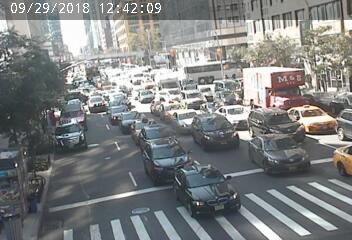car: (242, 67, 302, 109), (178, 166, 238, 205), (253, 140, 307, 174), (201, 113, 237, 151), (145, 142, 189, 172), (258, 107, 297, 138), (180, 62, 249, 78), (51, 127, 91, 151), (300, 111, 331, 131), (59, 107, 89, 125), (214, 80, 241, 98), (102, 103, 131, 119), (143, 127, 176, 140), (176, 113, 201, 128), (182, 89, 205, 105), (224, 102, 248, 117), (110, 92, 132, 108), (133, 120, 160, 132), (160, 107, 189, 118), (155, 80, 181, 91), (120, 113, 141, 126), (136, 89, 158, 101), (87, 99, 105, 110)
